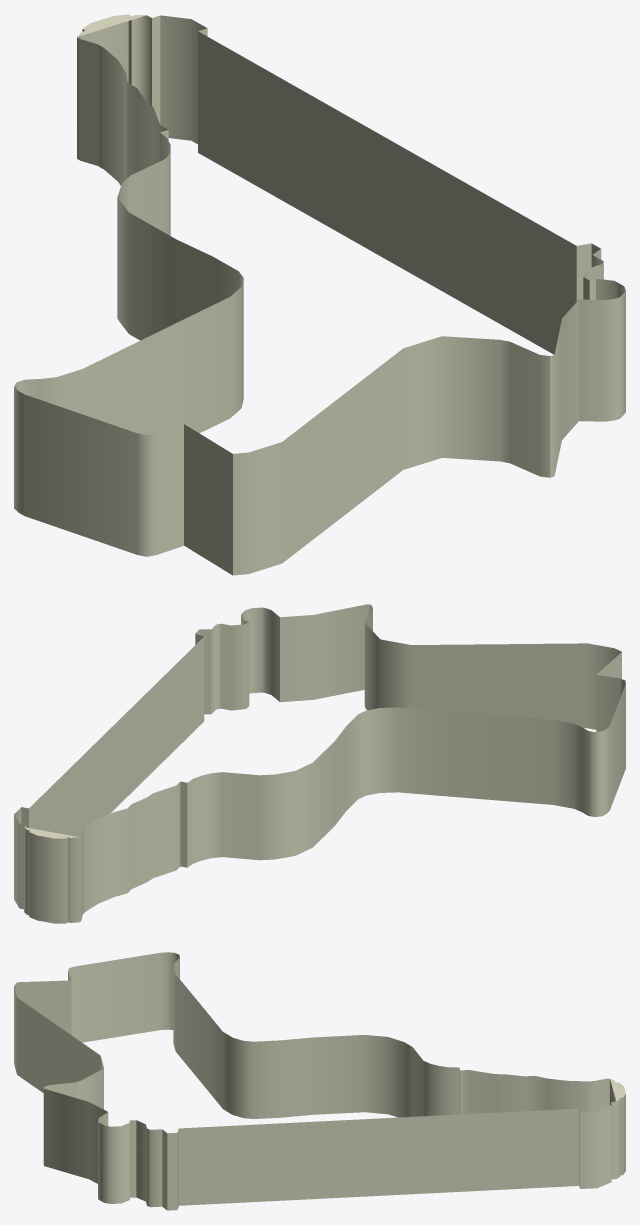
The model's file is original-4.obj.
3 renders of one model, top to bottom at view 1: azimuth 30°, elevation 25°; view 2: azimuth 150°, elevation 25°; view 3: azimuth 270°, elevation 25°, orthographic. The views are drawn at different scales.
Visible parts, largest first — view 1: #ID32; view 2: #ID32; view 3: #ID32.
Part boxes in pixels (x1,y1,x2,y2): #ID32: (14, 14, 625, 575); #ID32: (14, 604, 625, 923); #ID32: (14, 952, 625, 1210).
Bounding box in the file's own units: 0.3695 × 0.0737 × 0.5283.
